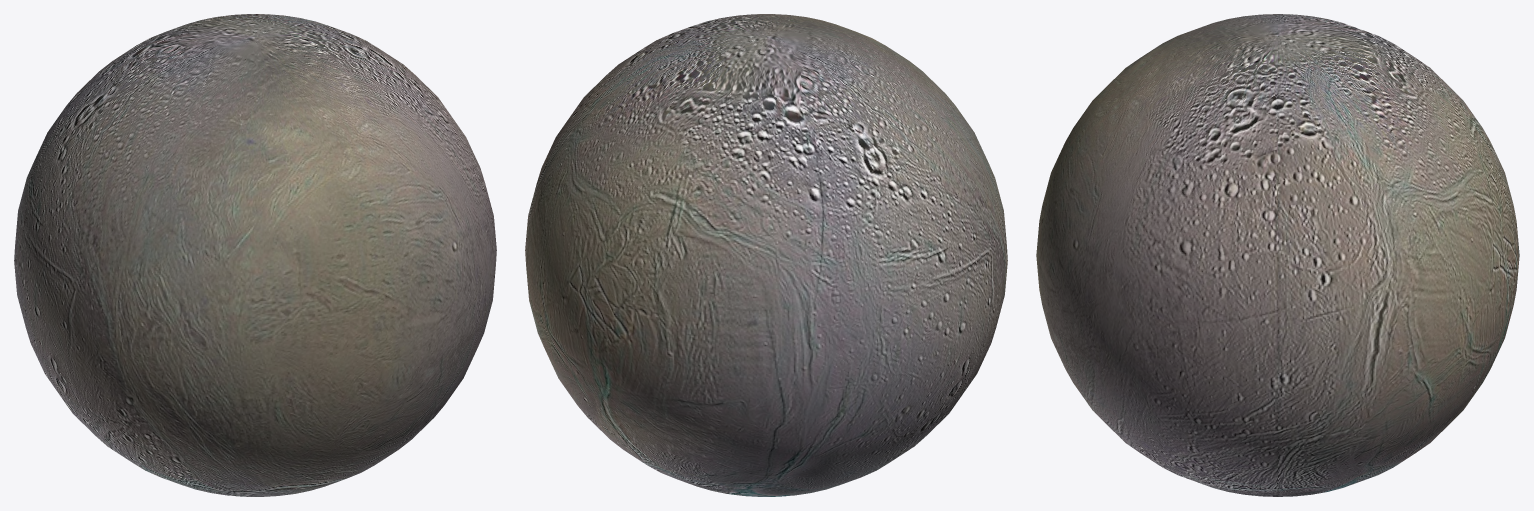
Rendered from enceladus.glb.
The picture shows the model from 3 angles, left to right: view 1: azimuth 30°, elevation 25°; view 2: azimuth 150°, elevation 25°; view 3: azimuth 270°, elevation 25°; orthographic projection.
Size of the model in its own units: 2 by 2 by 2.
Materials: 1 (1 with a texture image).
